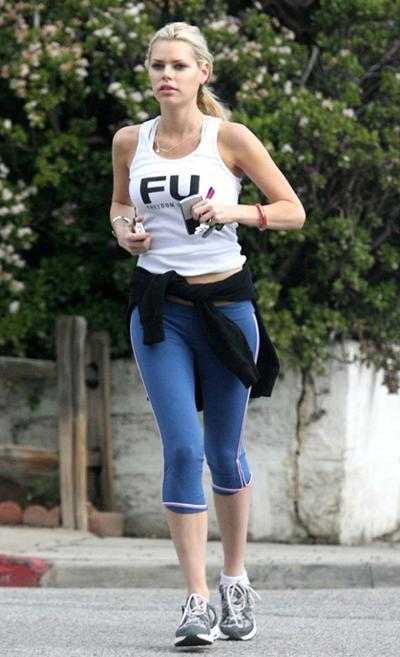person: (109, 23, 308, 648)
